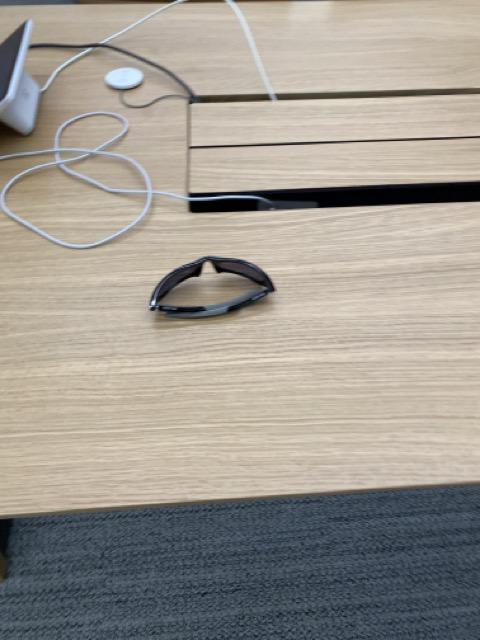Sunglasses: (148, 254, 278, 321)
